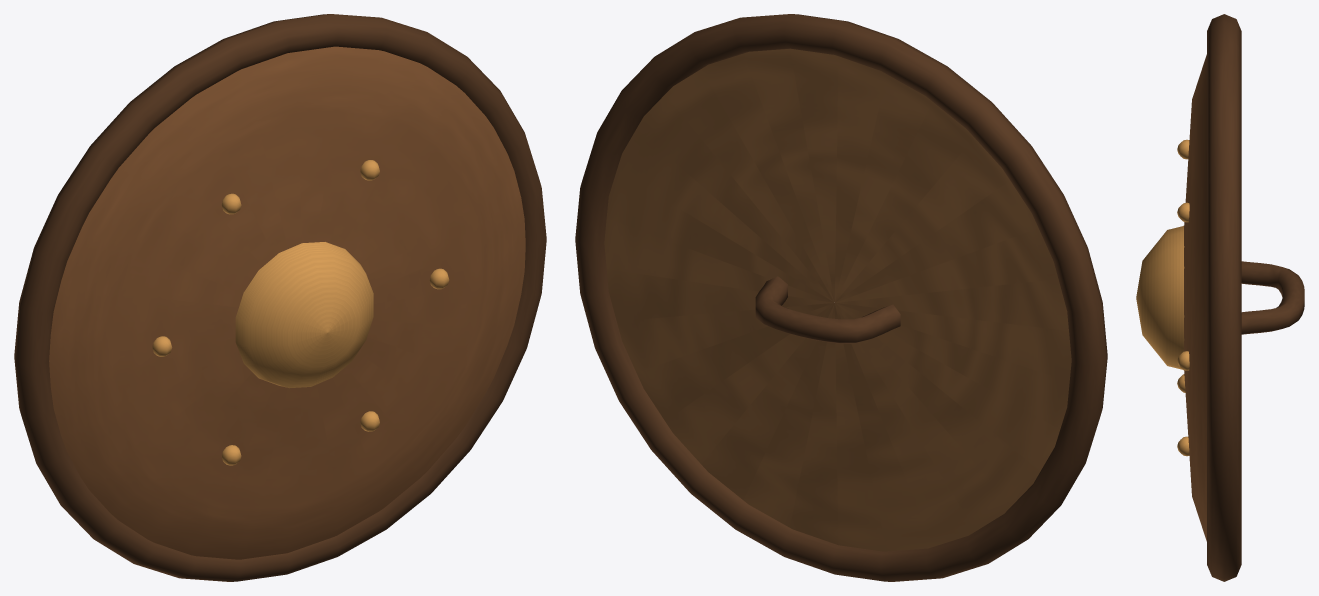
The model's file is shield_leather.glb.
The picture shows the model from 3 angles, left to right: view 1: azimuth 30°, elevation 25°; view 2: azimuth 150°, elevation 25°; view 3: azimuth 270°, elevation 25°; orthographic projection. The views are drawn at different scales.
Visible parts, largest first — view 1: shield_leather; view 2: shield_leather; view 3: shield_leather.
Boxes of the visible parts, bbox=[...] form: shield_leather: bbox=[14, 14, 546, 581]; shield_leather: bbox=[575, 14, 1107, 581]; shield_leather: bbox=[1136, 14, 1304, 581].
Bounding box in the file's own units: 0.458 × 0.458 × 0.1358.
Materials: 6 (5 with a texture image).
